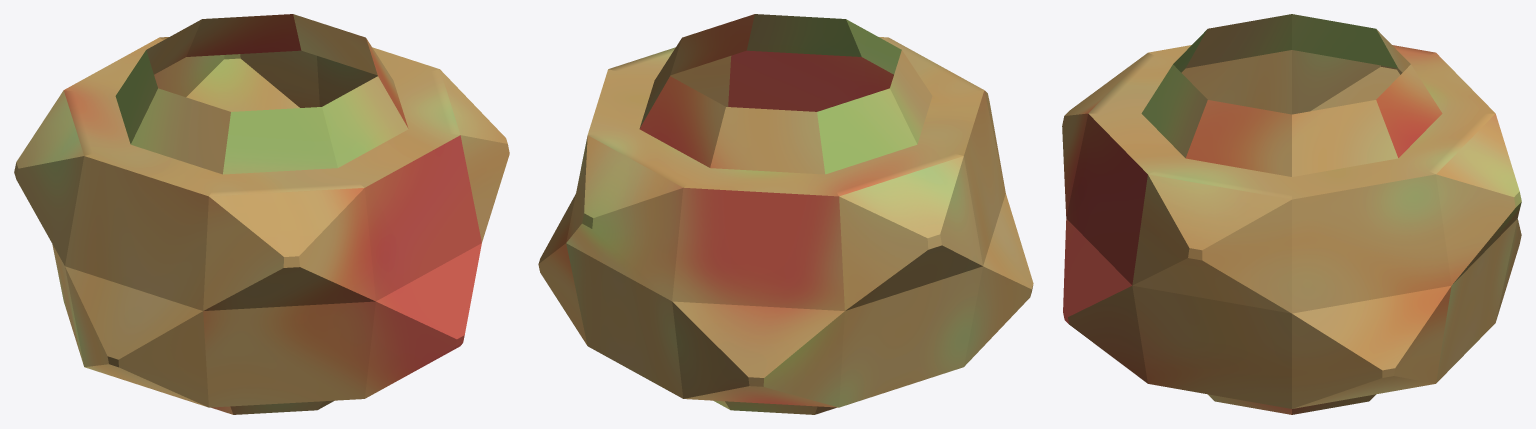
File: WormBody_UV.fbx
3 views of the same model, side by side, from view 1: azimuth 30°, elevation 25°; view 2: azimuth 150°, elevation 25°; view 3: azimuth 270°, elevation 25° (orthographic).
Parts seen in each view (by area): view 1: Worm_BodyA_UV; view 2: Worm_BodyA_UV; view 3: Worm_BodyA_UV.
Boxes of the visible parts, box(x1,y1,x2,y2) form: Worm_BodyA_UV: box(14, 14, 509, 414); Worm_BodyA_UV: box(538, 14, 1033, 414); Worm_BodyA_UV: box(1062, 14, 1521, 414).
Bounding box in the file's own units: 3.05 × 2.23 × 3.05.
Materials: 1 (1 with a texture image).
